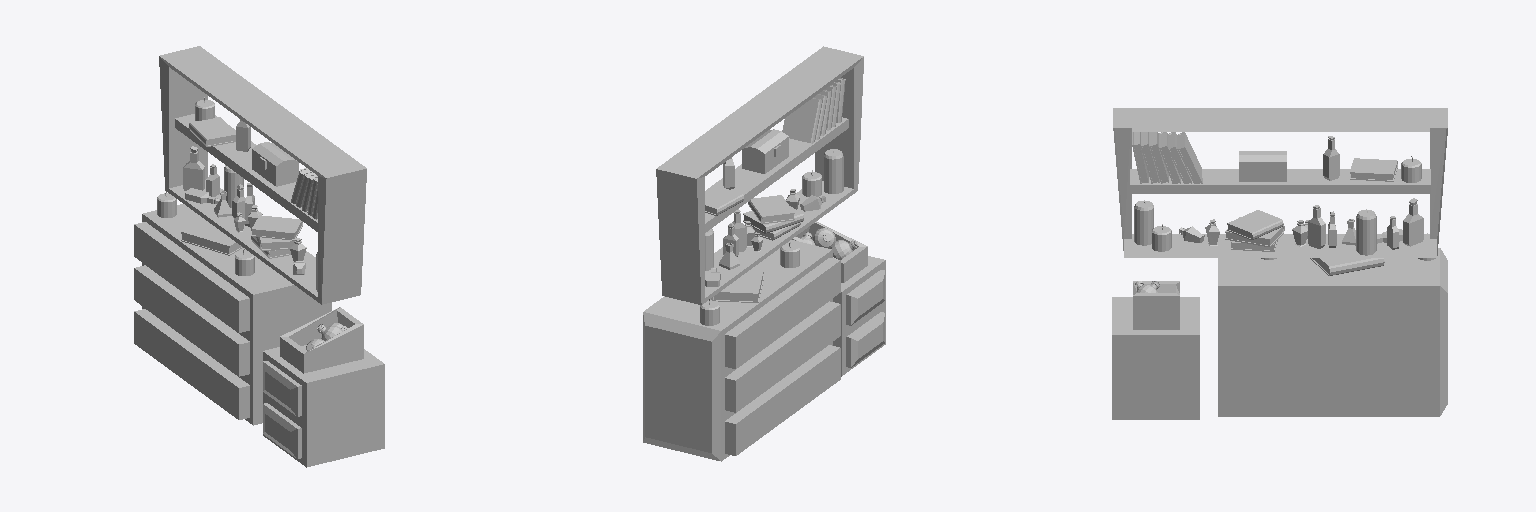
Rendered from potionstable.obj.
3 views of the same model, side by side, from view 1: azimuth 30°, elevation 25°; view 2: azimuth 150°, elevation 25°; view 3: azimuth 270°, elevation 25° (orthographic).
Parts seen in each view (by area): view 1: Cube.002, Cube, Cube.001, objs.004, Cube.007, Cube.014, Cube.008, Cube.012, Cube.009, Cube.013; view 2: Cube.002, Cube, Cube.001, objs.004, Cube.013, Cube.014, Cube.008, Cube.007, Cube.012, Cylinder.003, Cube.009, Cube.011; view 3: Cube.002, Cube, Cube.001, objs.004, Cube.013, Cube.007, Cube.014, Cube.012, Cube.009, Cylinder.004, Cube.008, Cylinder.003.
Part boxes in pixels (x1,y1,x2,y2): Cube.002: (134,204,331,425); Cube: (159,46,366,304); Cube.001: (263,347,384,467); objs.004: (183,119,347,350); Cube.007: (280,307,363,373); Cube.014: (252,142,298,186); Cube.008: (181,218,242,255); Cube.012: (252,215,302,240); Cube.009: (189,117,235,146); Cube.013: (291,168,317,219); Cube.002: (643,240,840,461); Cube: (656,46,863,304); Cube.001: (833,256,885,376); objs.004: (705,157,857,286); Cube.013: (782,78,845,143); Cube.014: (742,129,788,173); Cube.008: (711,268,763,302); Cube.007: (792,221,867,282); Cube.012: (748,195,794,223); Cylinder.003: (824,149,843,193); Cube.009: (705,185,743,215); Cube.011: (743,206,803,233); Cube.002: (1218,248,1447,416); Cube: (1113,108,1447,257); Cube.001: (1112,297,1199,419); objs.004: (1135,136,1423,292); Cube.013: (1132,132,1202,183); Cube.007: (1133,281,1179,329); Cube.014: (1239,151,1286,181); Cube.012: (1227,210,1283,239); Cube.009: (1350,158,1397,181); Cylinder.004: (1356,209,1376,255); Cube.008: (1310,258,1384,275); Cylinder.003: (1134,200,1153,245).
Size of the model in its own units: 1.67 by 5.04 by 5.42.